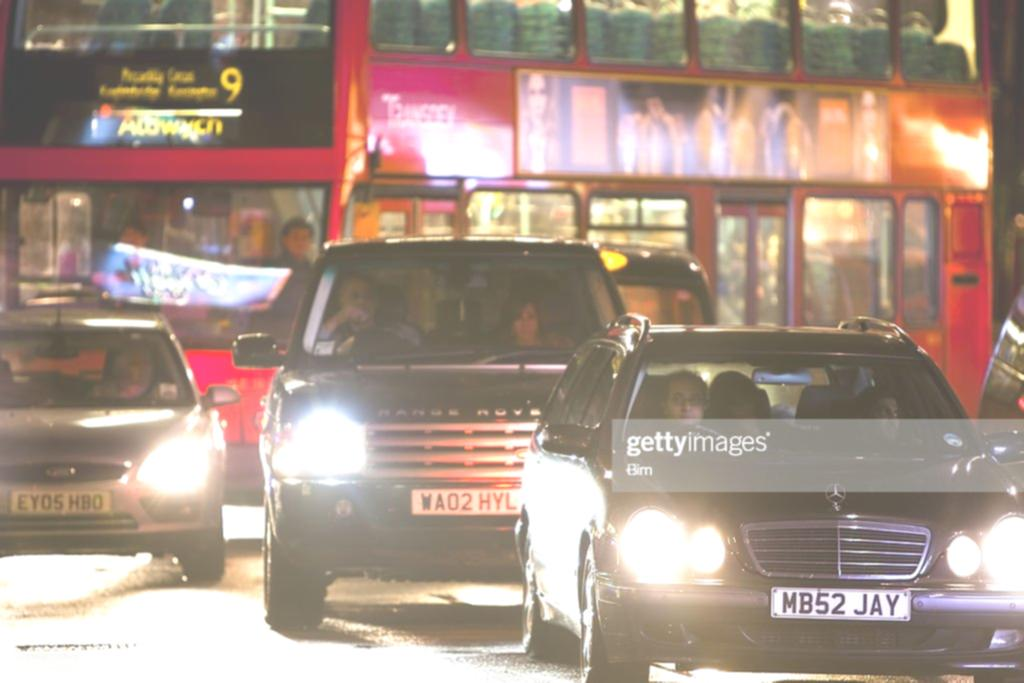Mercedes: (813, 475, 872, 512)
range rover: (367, 399, 563, 430)
